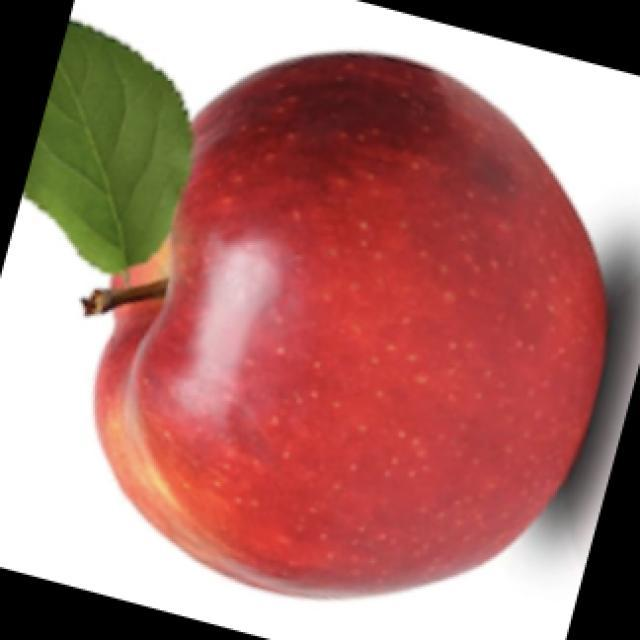Fresh Apple: (81, 60, 606, 610)
